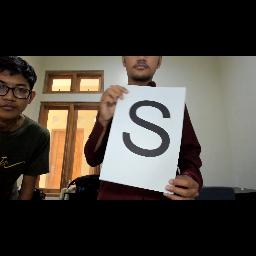s: (116, 94, 174, 166)
